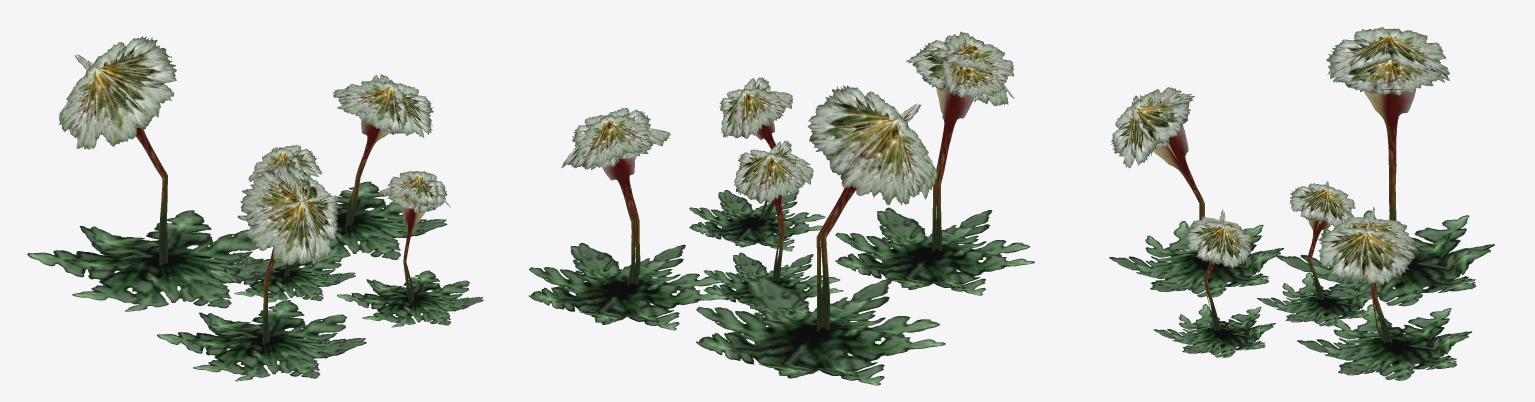
Rendered from flw_g01_wha.glb.
3 views of the same model, side by side, from view 1: azimuth 30°, elevation 25°; view 2: azimuth 150°, elevation 25°; view 3: azimuth 270°, elevation 25° (orthographic). The views are drawn at different scales.
Parts seen in each view (by area): view 1: flw_G01_wha; view 2: flw_G01_wha; view 3: flw_G01_wha.
Boxes of the visible parts, left/top/right/bottom form: flw_G01_wha: left=27, top=36, right=483, bottom=381; flw_G01_wha: left=528, top=31, right=1034, bottom=385; flw_G01_wha: left=1109, top=27, right=1494, bottom=380.
Bounding box in the file's own units: 1.06 × 0.6572 × 1.05.
1 material, 1 textured.
